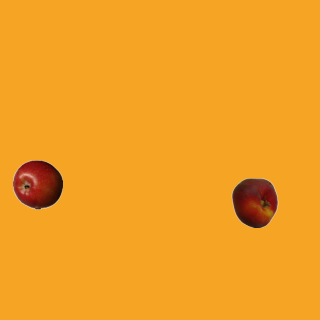Apple Braeburn: (12, 159, 62, 209)
Nectarine Flat: (229, 177, 279, 227)
